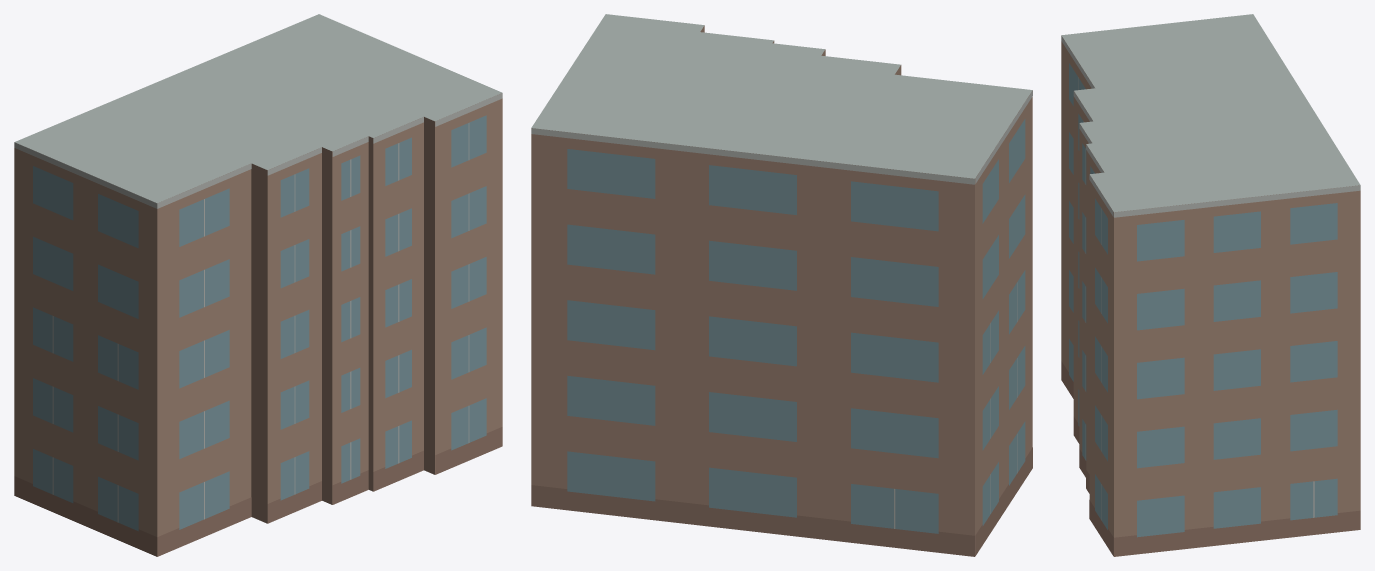
Rendered from survey-upis-32710400.glb.
The picture shows the model from 3 angles, left to right: view 1: azimuth 30°, elevation 25°; view 2: azimuth 150°, elevation 25°; view 3: azimuth 270°, elevation 25°; orthographic projection. The views are drawn at different scales.
Parts seen in each view (by area): view 1: survey-upis-32710400.tmp; view 2: survey-upis-32710400.tmp; view 3: survey-upis-32710400.tmp.
Boxes of the visible parts, x1=… form: survey-upis-32710400.tmp: x1=14, y1=14, x2=502, y2=556; survey-upis-32710400.tmp: x1=531, y1=14, x2=1032, y2=556; survey-upis-32710400.tmp: x1=1061, y1=14, x2=1360, y2=556.
Size of the model in its own units: 18.82 by 15.25 by 12.02.
